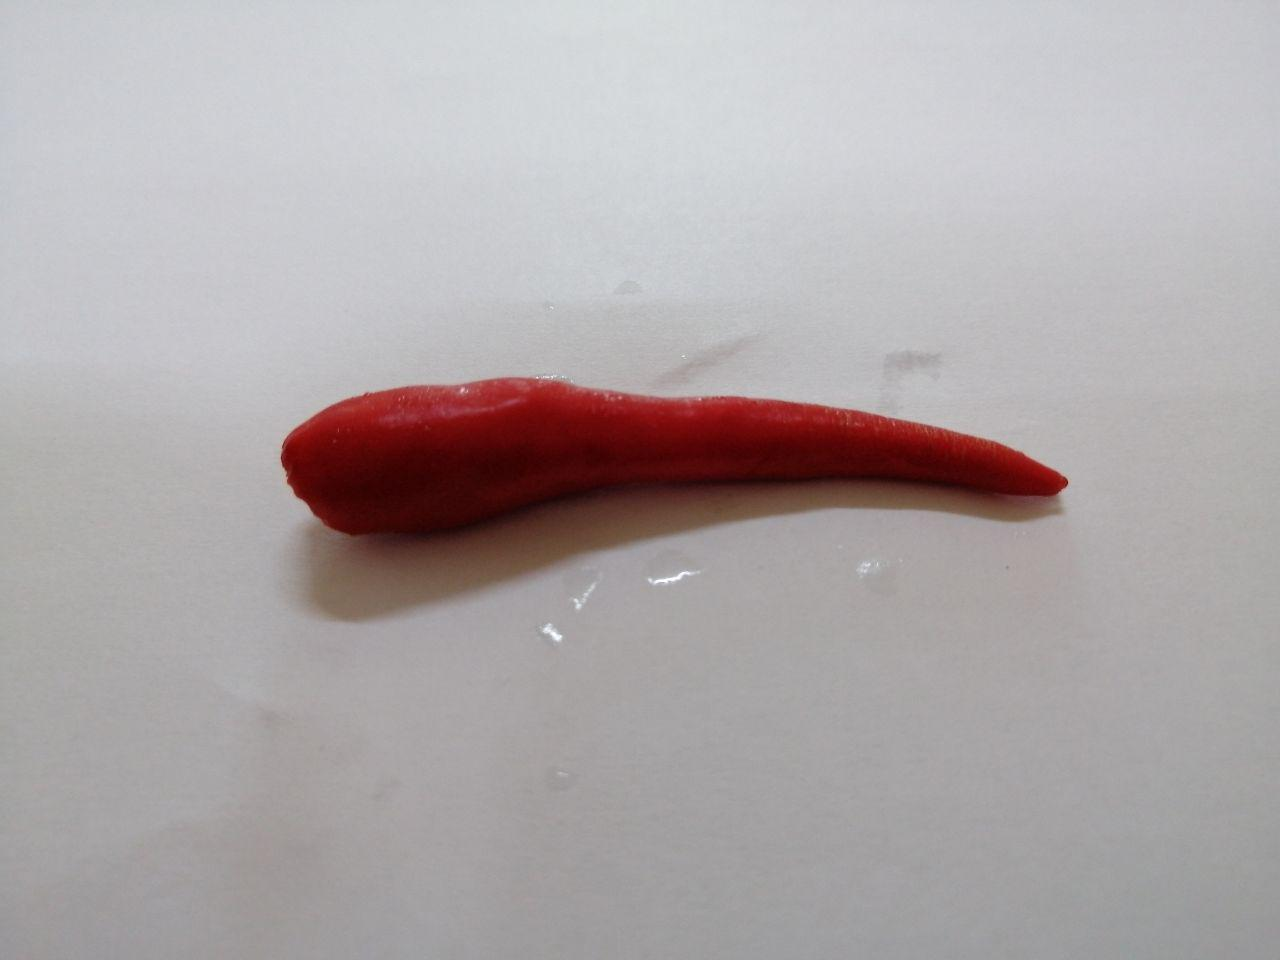lada merah: (258, 347, 1090, 589)
